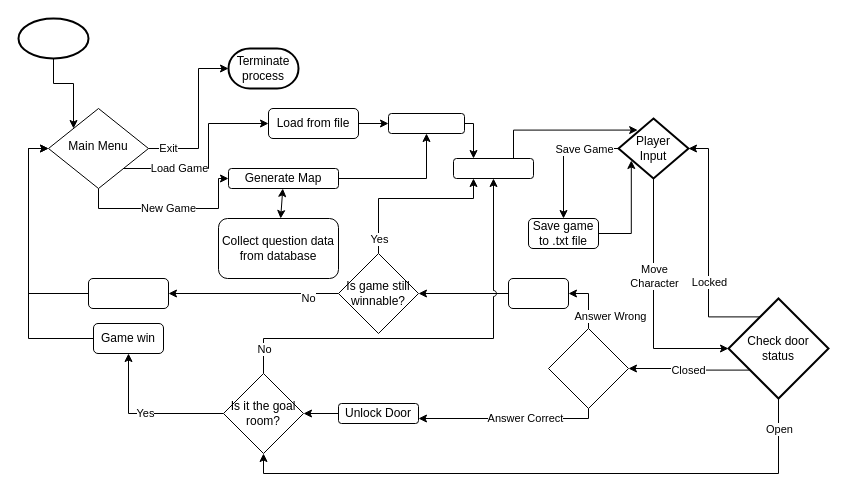
This 846x499 diagram has some shape labels left out. The centre of each missing label's shape, as x and y in pixels:
Game Loss: (x=128, y=293)
Lock Door: (x=538, y=293)
Question: (x=588, y=368)
Start: (x=53, y=38)
Start Game: (x=426, y=123)
Top of Round: (x=493, y=168)
